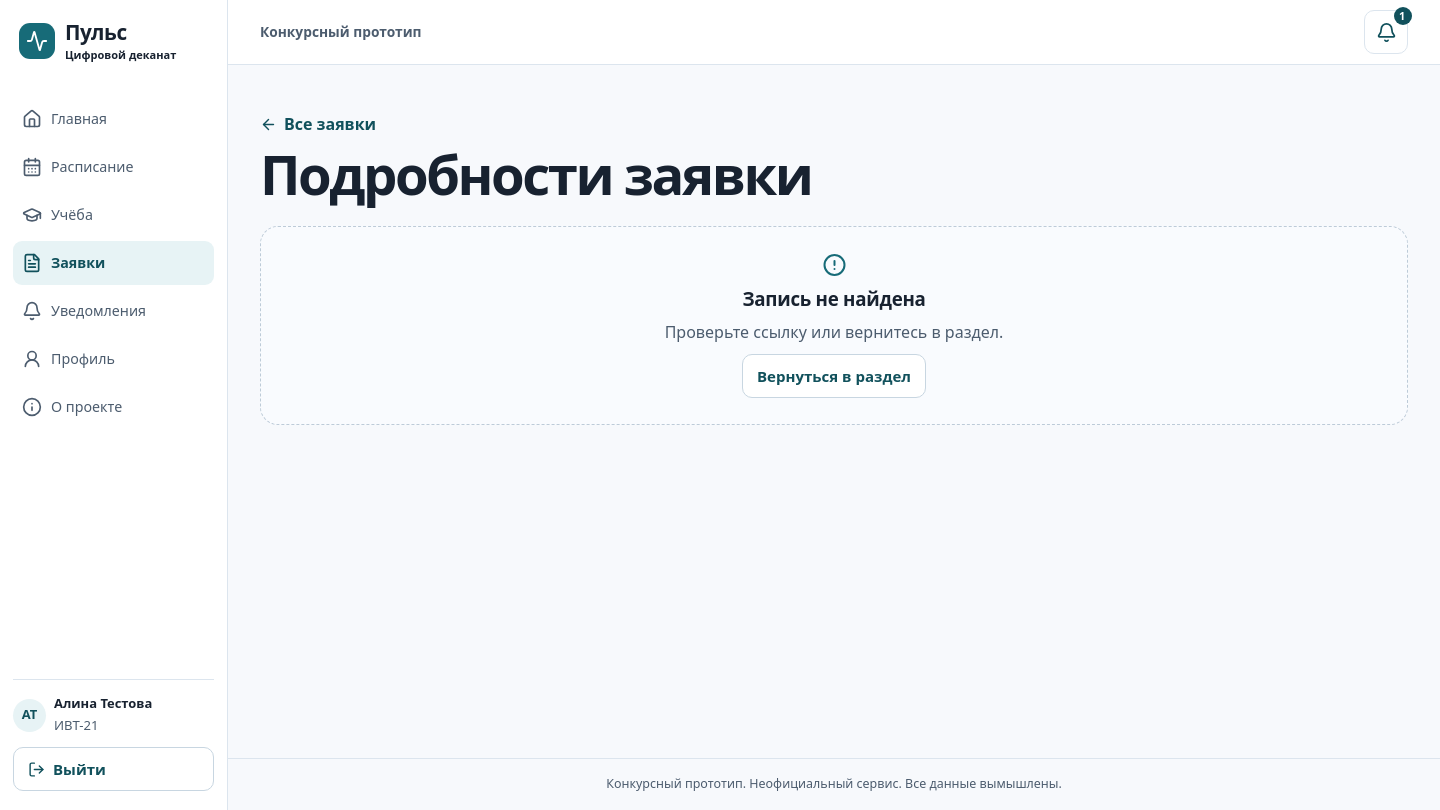
it: Заявки и уведомления › показывает одинаковое состояние отсутствующей заявки и рабочий возврат
expect the heading "Запись не найдена" is shown: met, box x1=742 y1=287 x2=926 y2=310
Step 1. Click the link "Вернуться в раздел" → (834, 376), box x1=742 y1=354 x2=926 y2=398
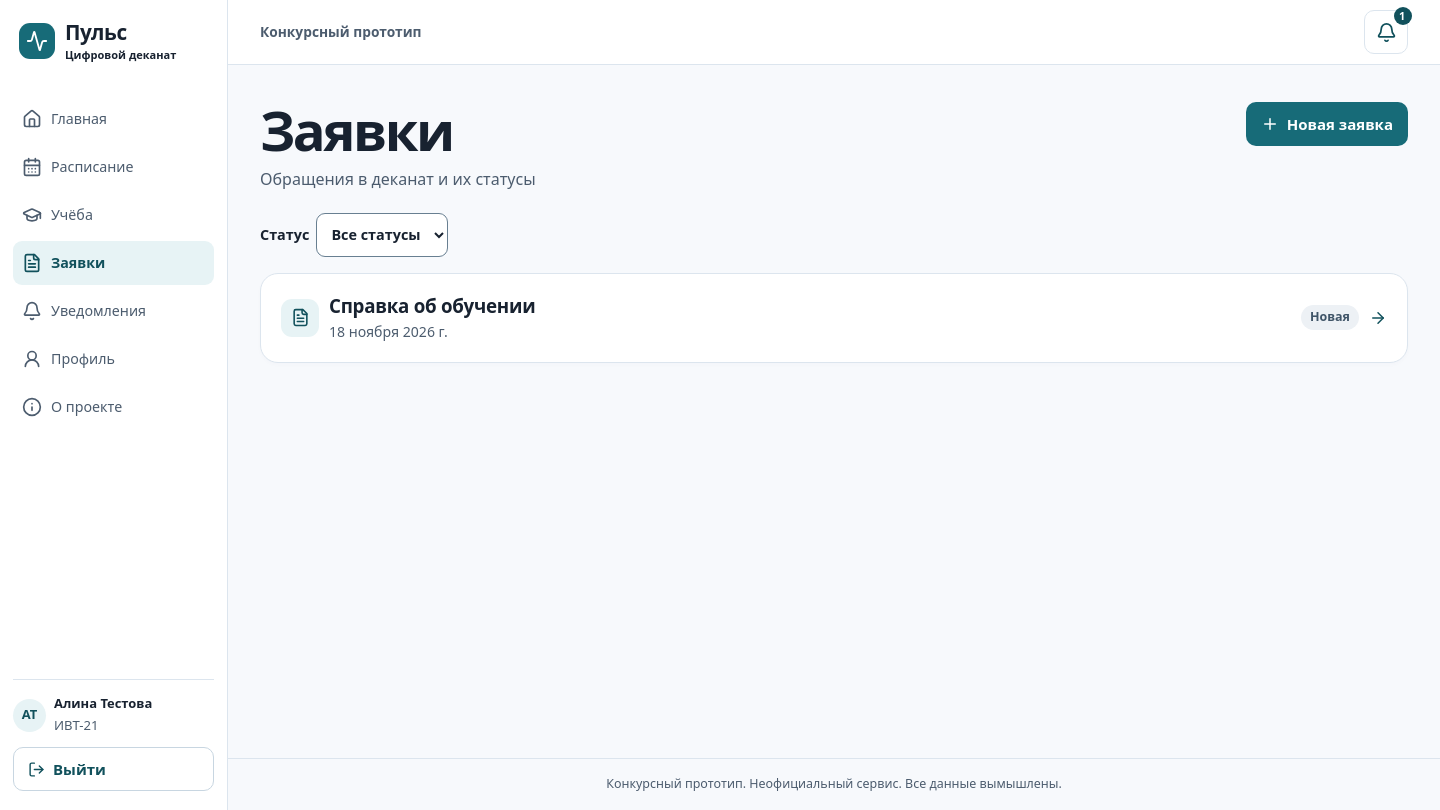
expect the heading "Справка об обучении" is shown: met, box x1=329 y1=293 x2=535 y2=318
